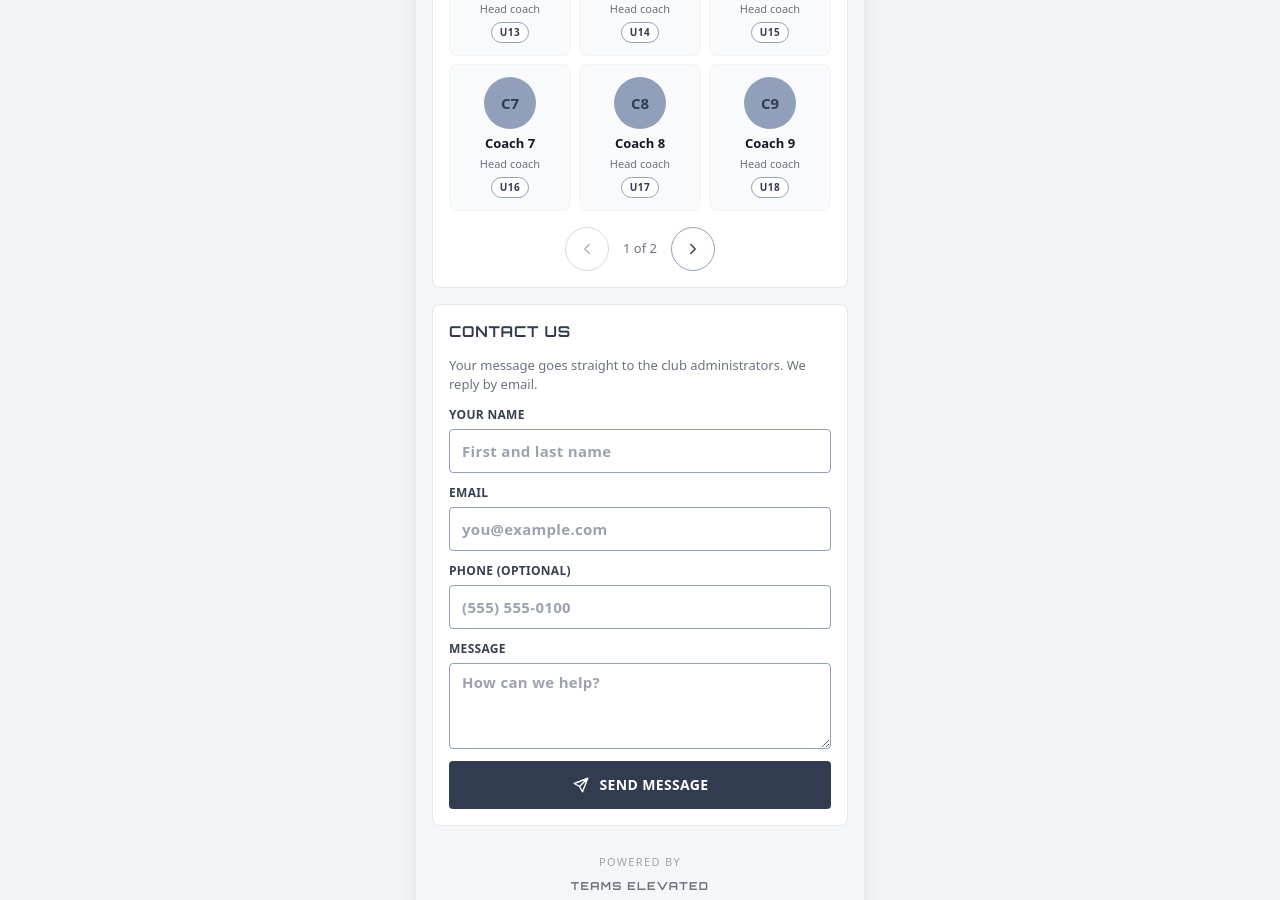
Scenario: ClubLinkPage › posts the contact form with the honeypot empty and shows the thank-you
The width and height of the screenshot is (1280, 900).
(page scrolled)
In the field labelled "Your name": (640, 450) top-left (449, 428), bottom-right (831, 472), type "Jane Doe"
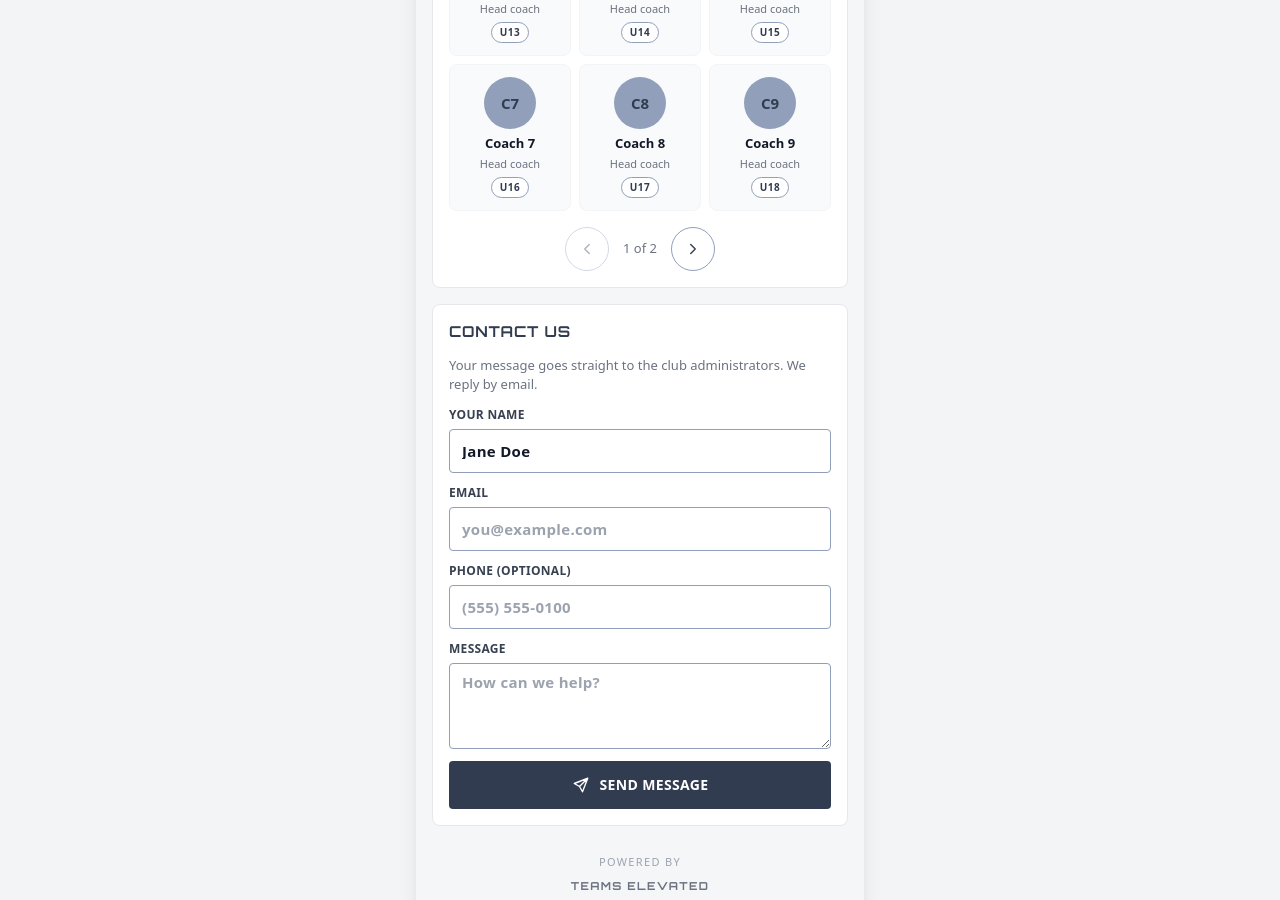
In the field labelled "Email": (640, 528) top-left (449, 506), bottom-right (831, 550), type "jane@example.com"
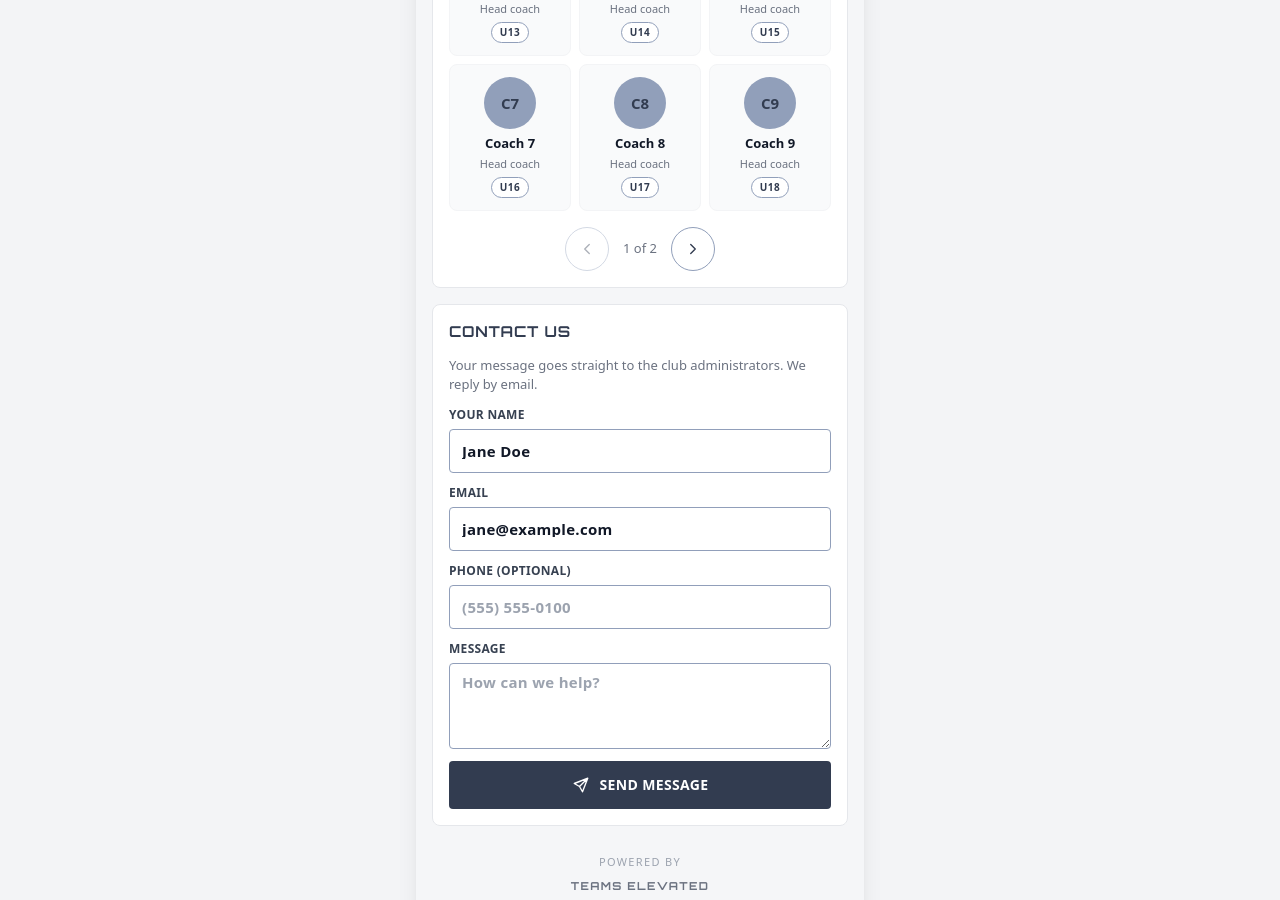
In the text box labelled "Message": (640, 706) top-left (449, 662), bottom-right (831, 748), type "Hello"
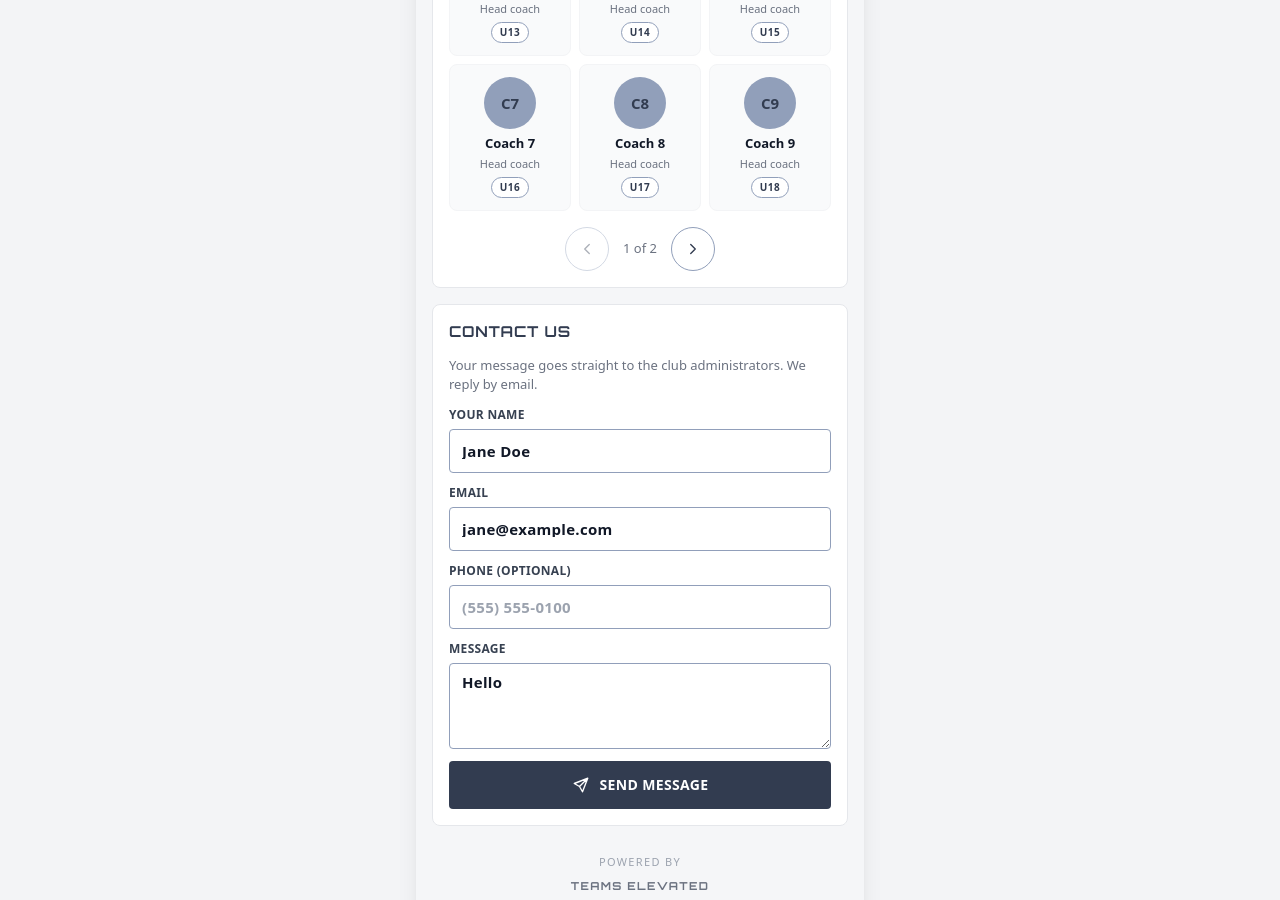
Click the button "Send message": (640, 784) top-left (449, 760), bottom-right (831, 808)
(page scrolled)
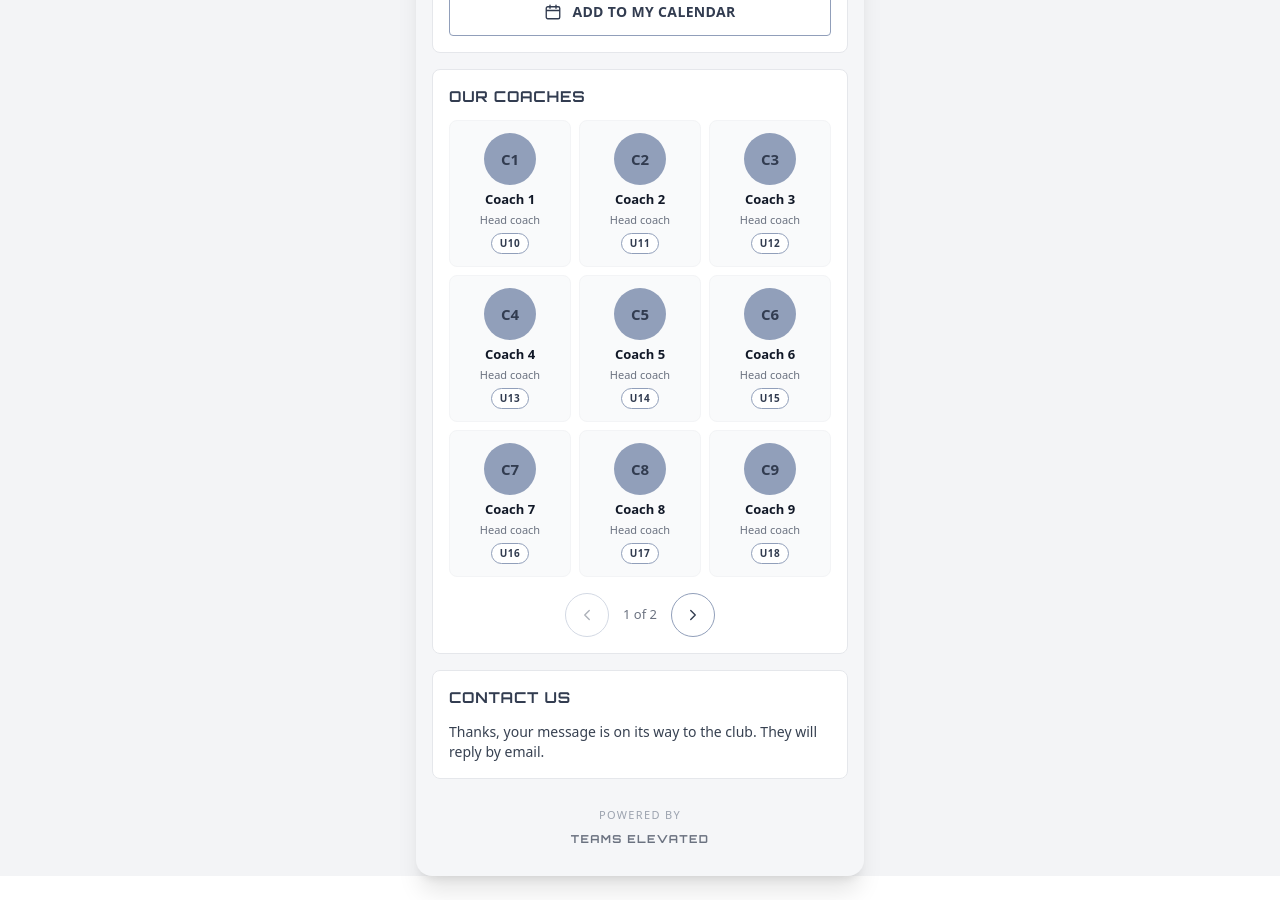
Expected: the message shows "on its way", top-left (449, 722), bottom-right (817, 760)
